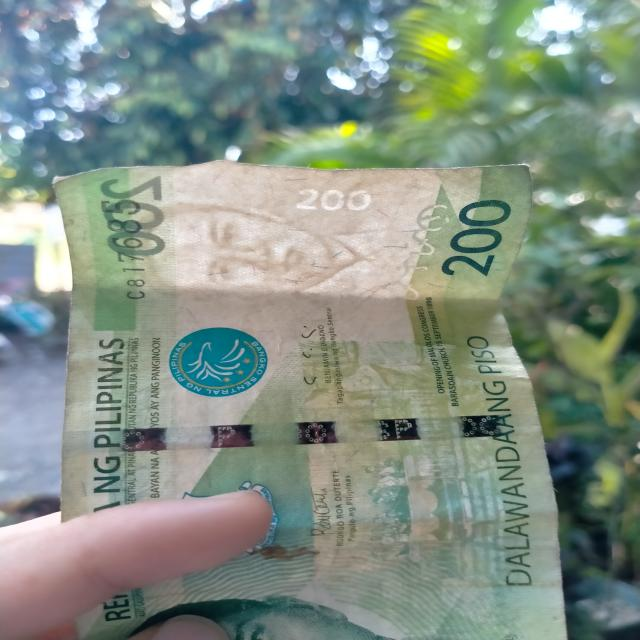security_thread: (64, 414, 553, 450)
see_through_mark: (388, 194, 456, 306)
value_watermark: (286, 183, 376, 216)
watermark: (134, 199, 398, 314)
